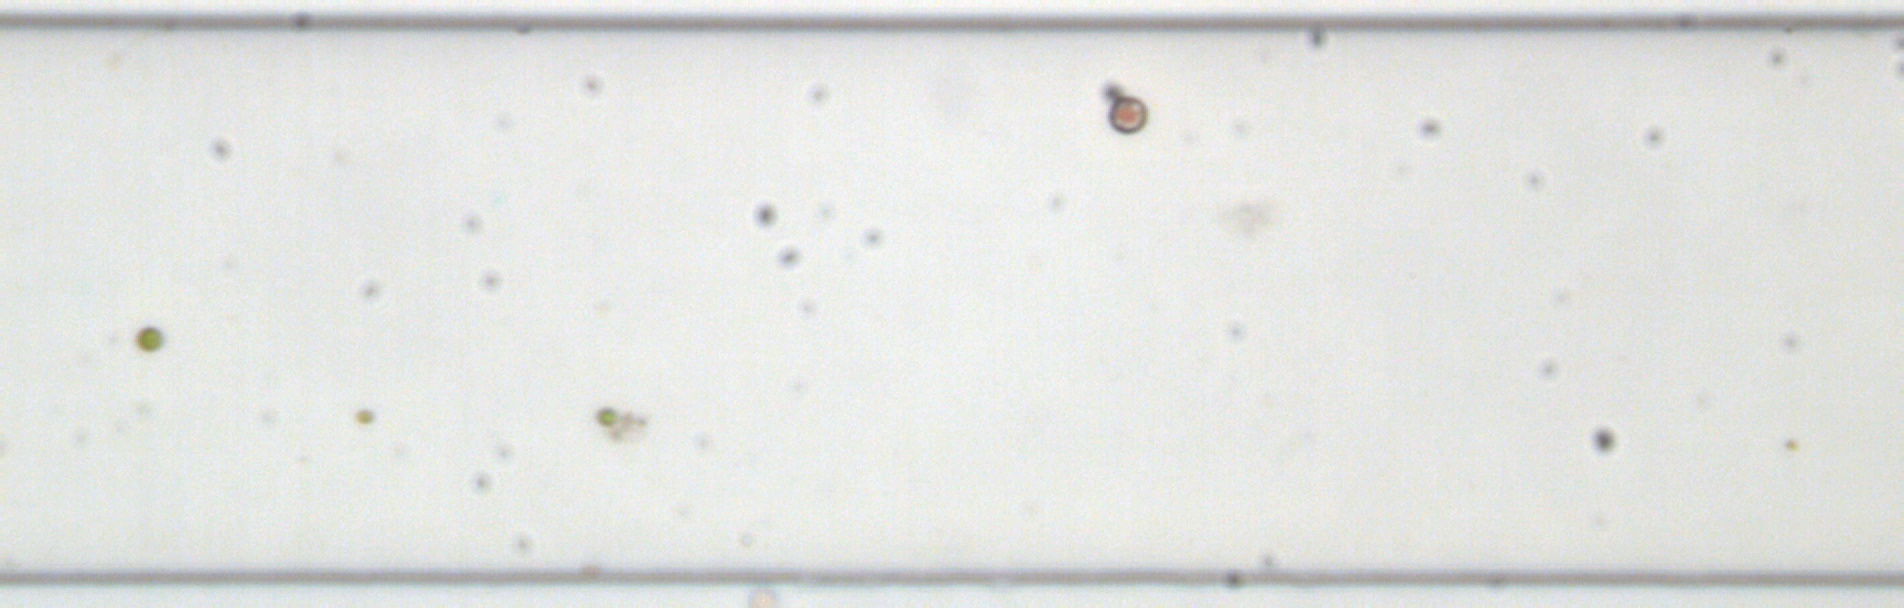Chlorella: (134, 324, 164, 356), (594, 405, 619, 430), (353, 405, 373, 427)
Porphyridium: (1106, 93, 1149, 138)
